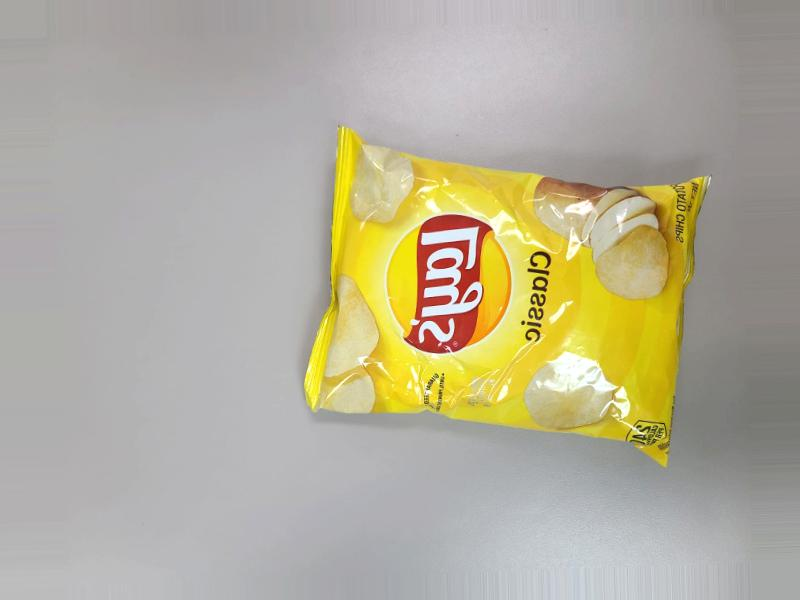lays: (345, 121, 685, 478)
